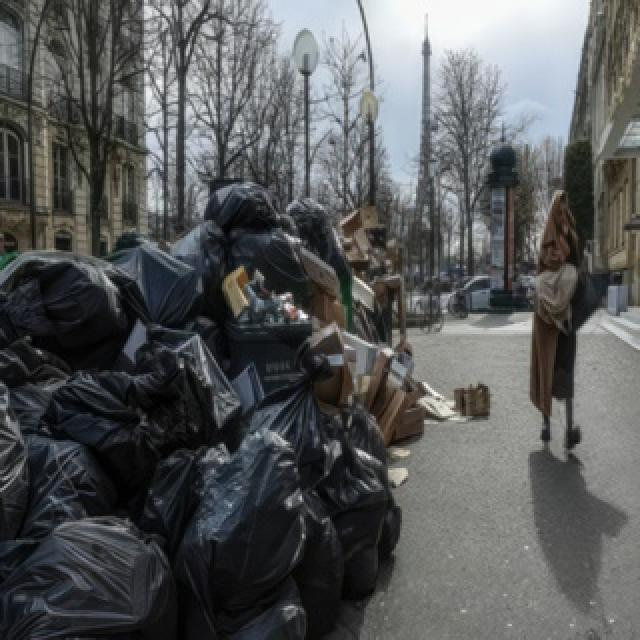Trashbag: (190, 437, 307, 612), (6, 519, 178, 638), (298, 460, 402, 624), (4, 250, 144, 360), (55, 367, 192, 479), (234, 356, 331, 462), (120, 245, 204, 341), (229, 228, 319, 307), (192, 180, 294, 241), (296, 200, 359, 270)
